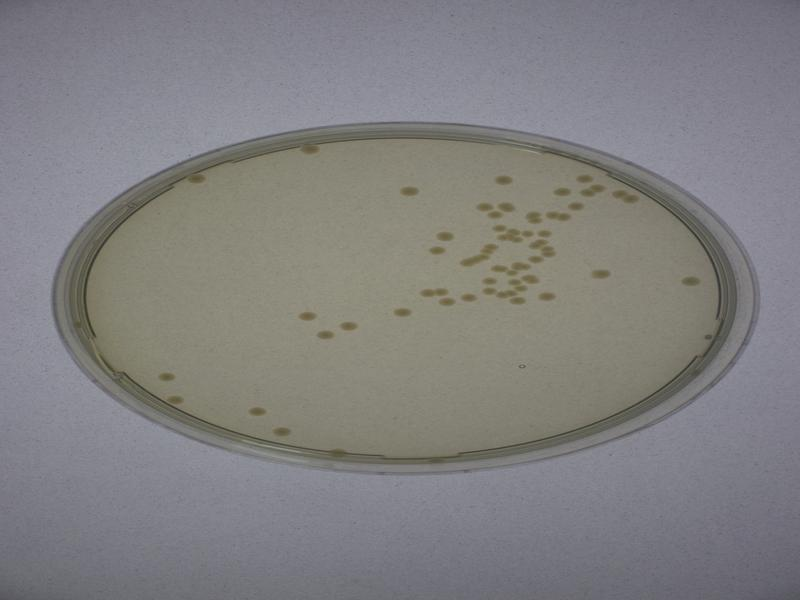colony: (387, 299, 423, 325), (585, 264, 618, 288), (287, 303, 318, 326), (395, 180, 424, 204), (338, 309, 360, 339), (681, 268, 703, 296), (433, 222, 459, 244), (535, 288, 562, 308), (313, 326, 339, 346), (424, 241, 450, 261), (550, 180, 574, 201), (490, 170, 516, 189), (246, 402, 269, 420), (458, 290, 478, 307)
